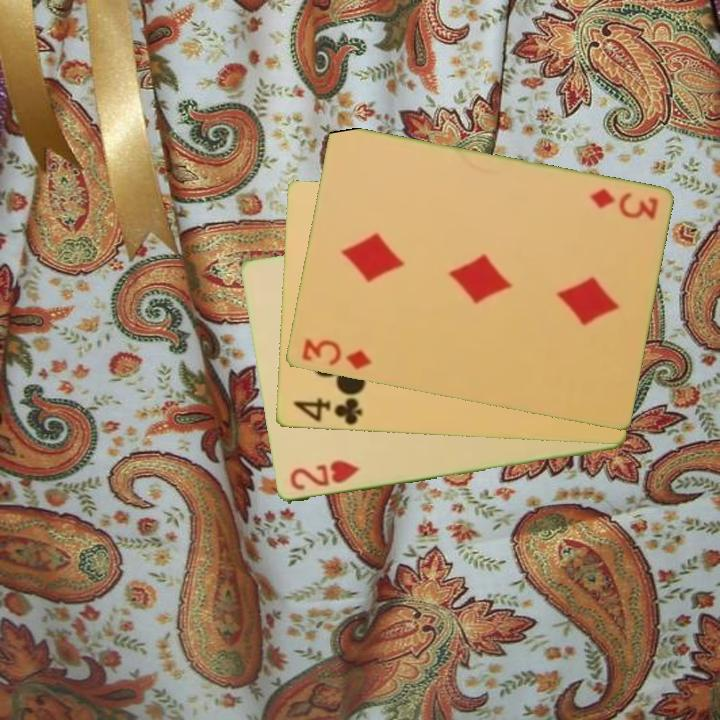2h: (286, 457, 363, 494)
3d: (586, 185, 661, 224), (298, 335, 374, 373)
4c: (289, 394, 364, 428)
